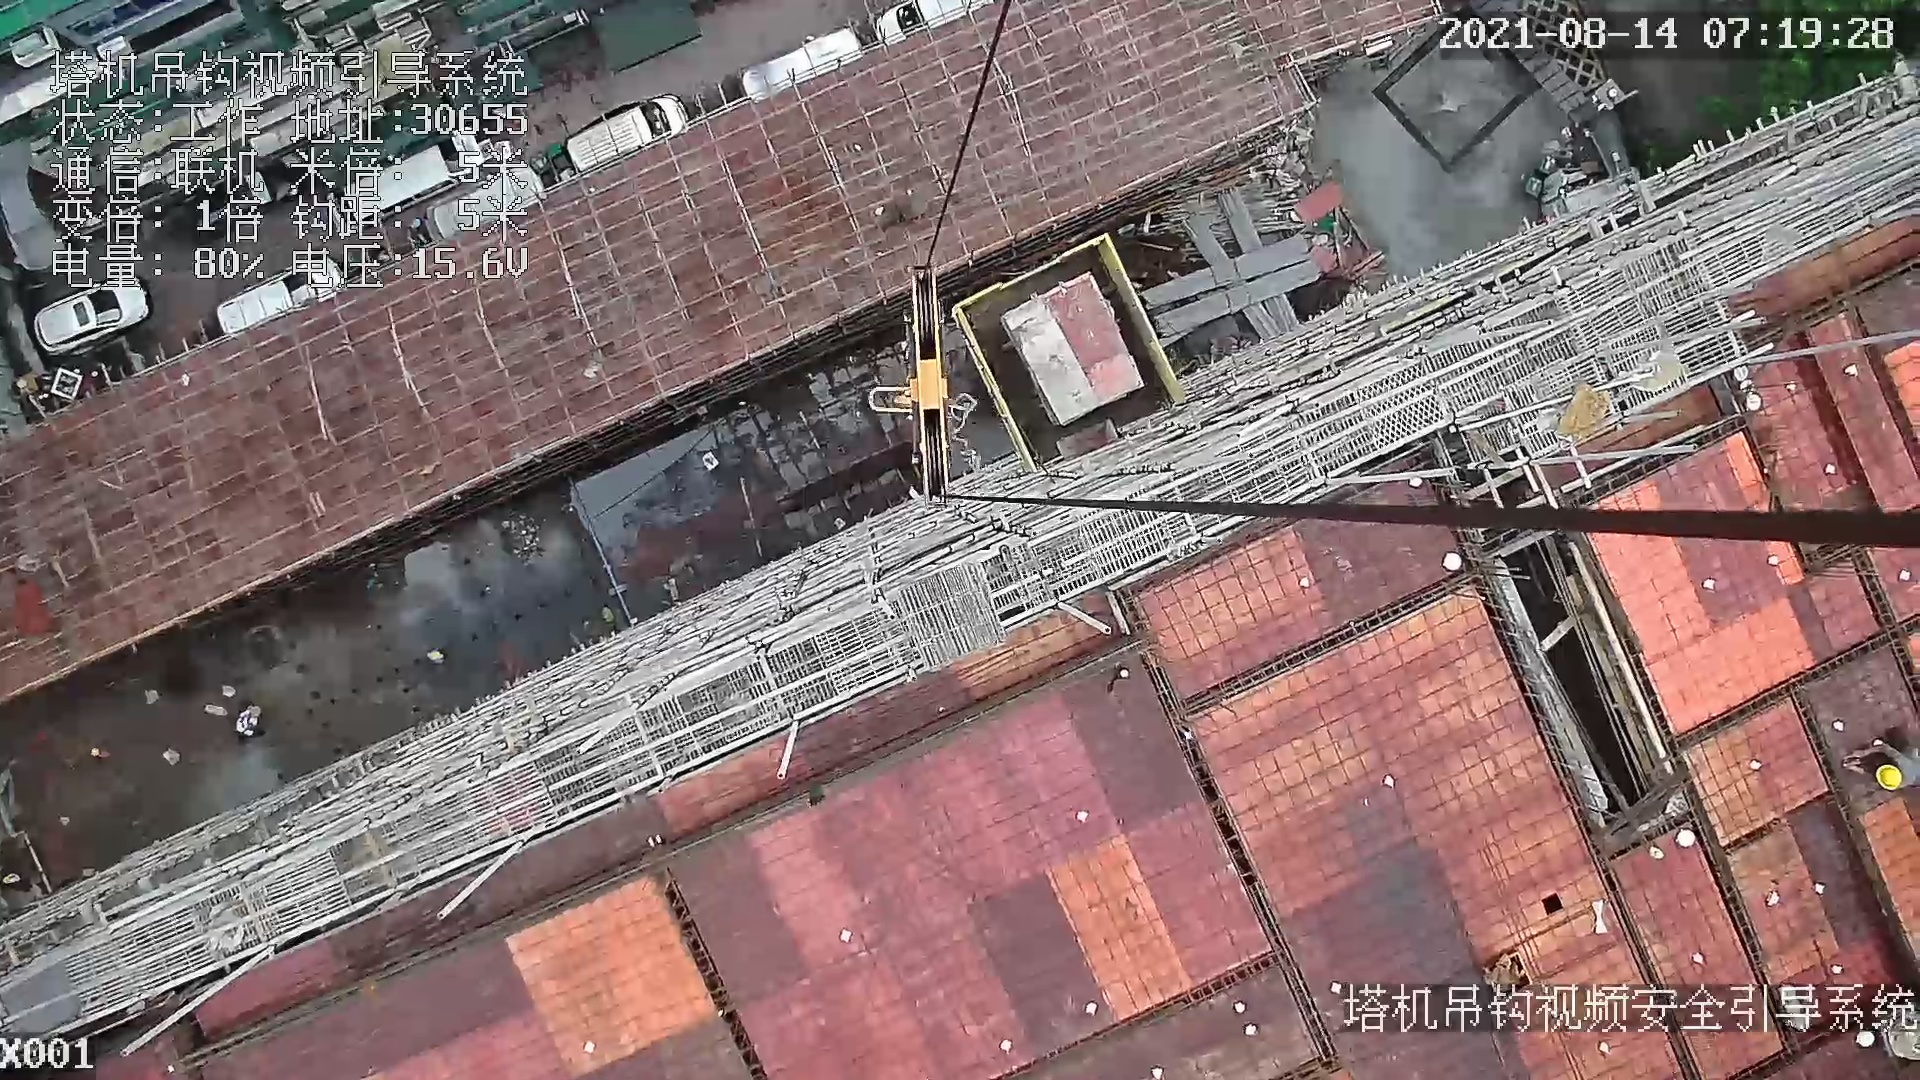hook: (869, 264, 963, 502)
